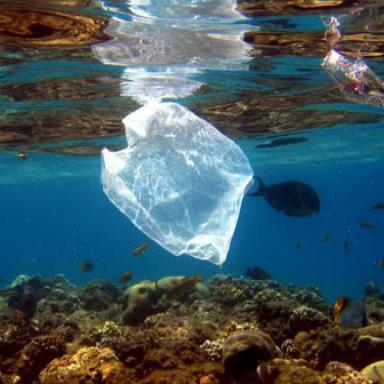plasticbag: (99, 100, 254, 268), (315, 36, 383, 108)
